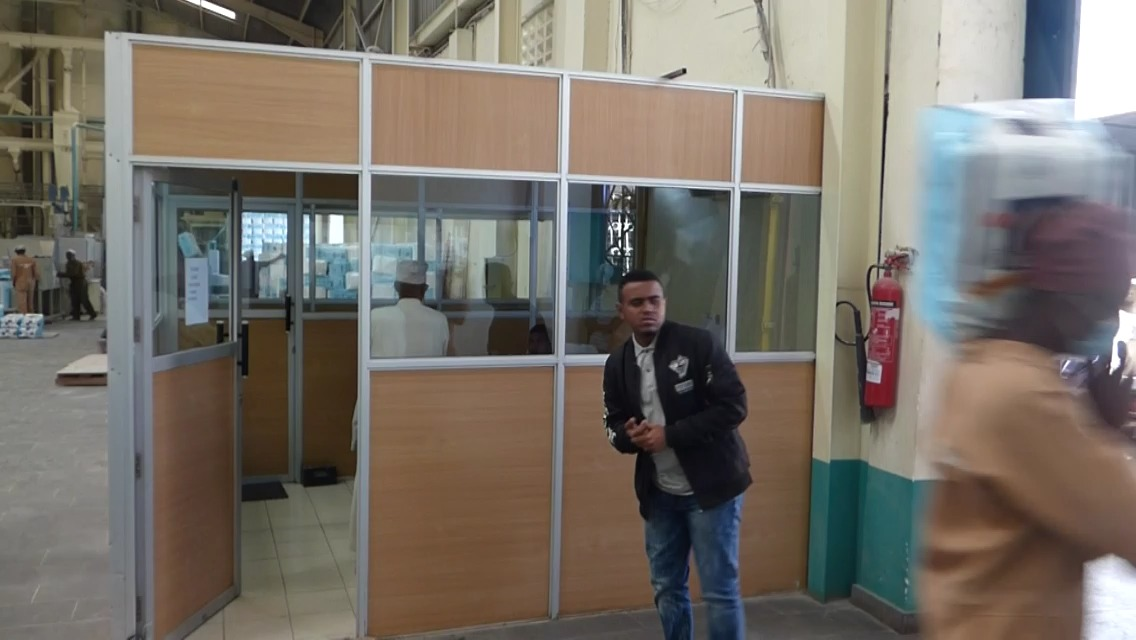wheat_flour_blue_label: (922, 100, 1132, 353)
